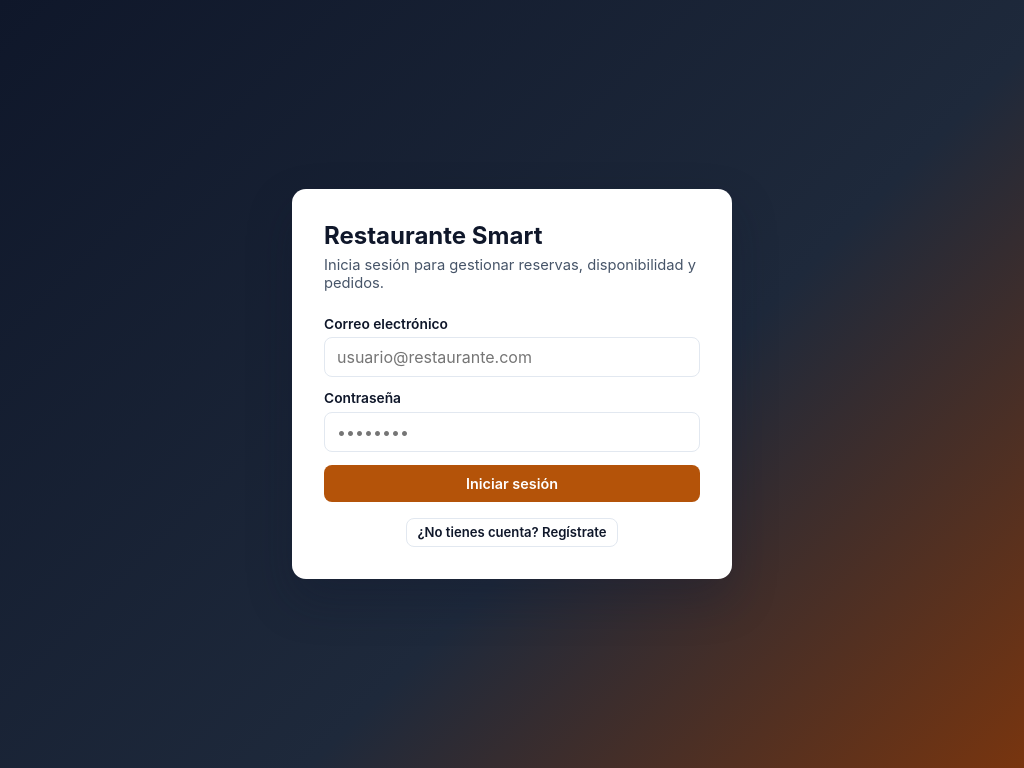
Test: LoginPage › permite cambiar a registro y muestra error si API falla
Click the button "¿No tienes cuenta? Regístrate" at point(512, 532), box 406,518 -> 618,547
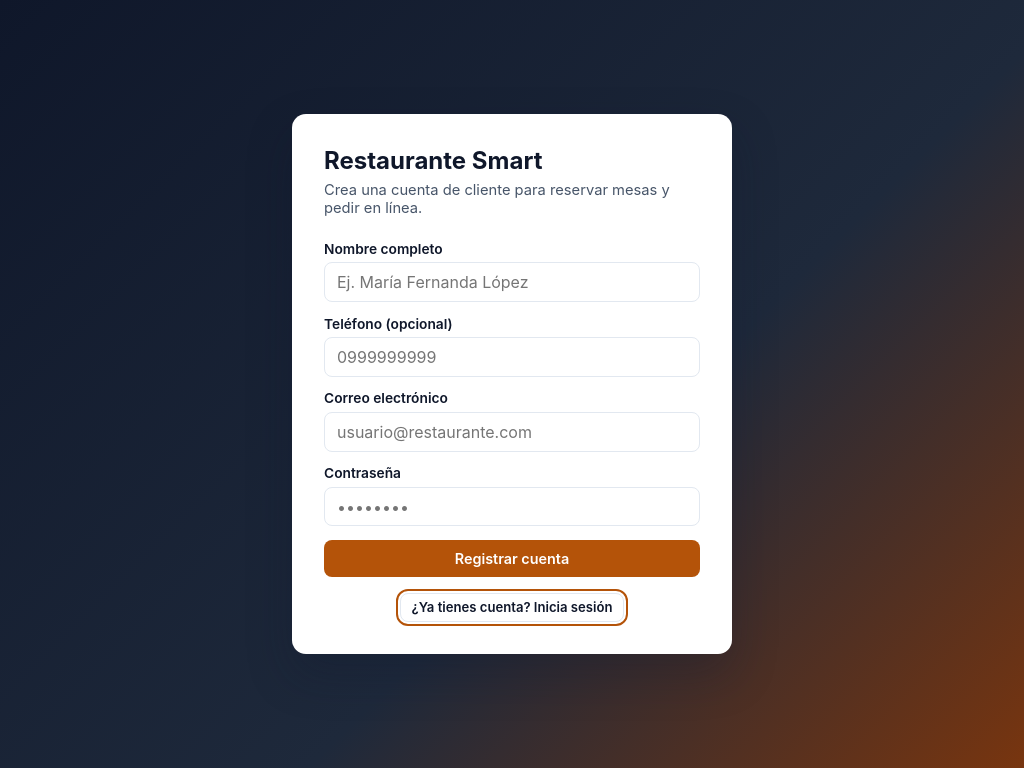
Type "Carlos Pérez" into the field labelled "Nombre completo" at point(512, 282), box 324,262 -> 700,302
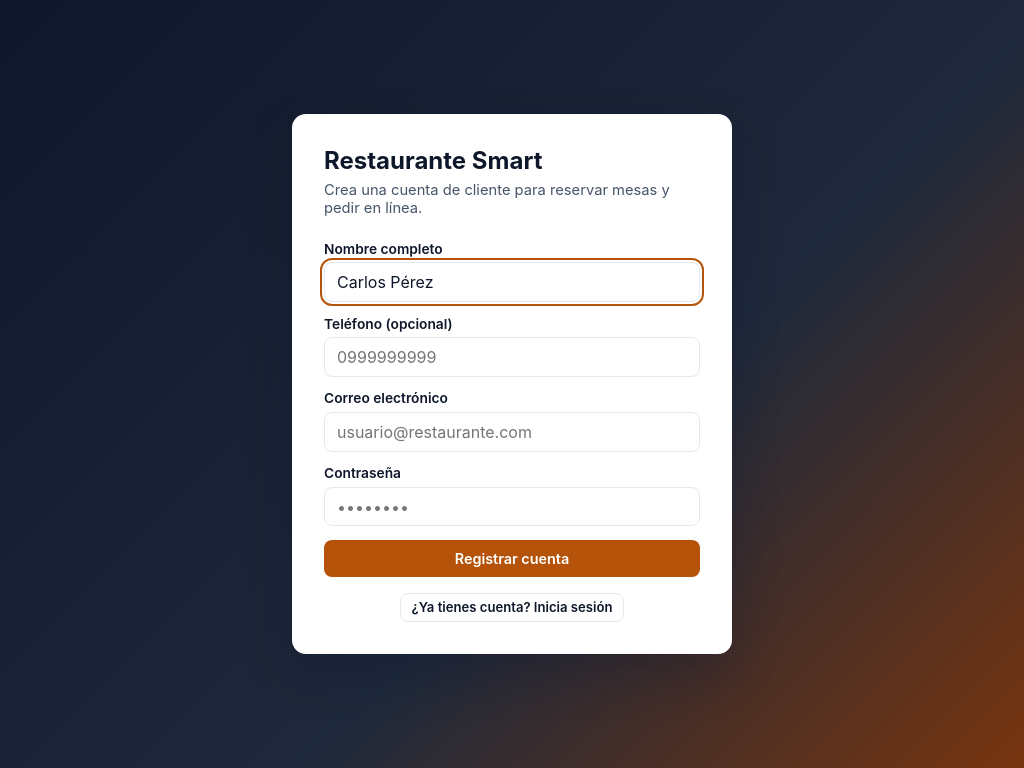
Type "carlos@example.com" into the field labelled "Correo electrónico" at point(512, 432), box 324,412 -> 700,452
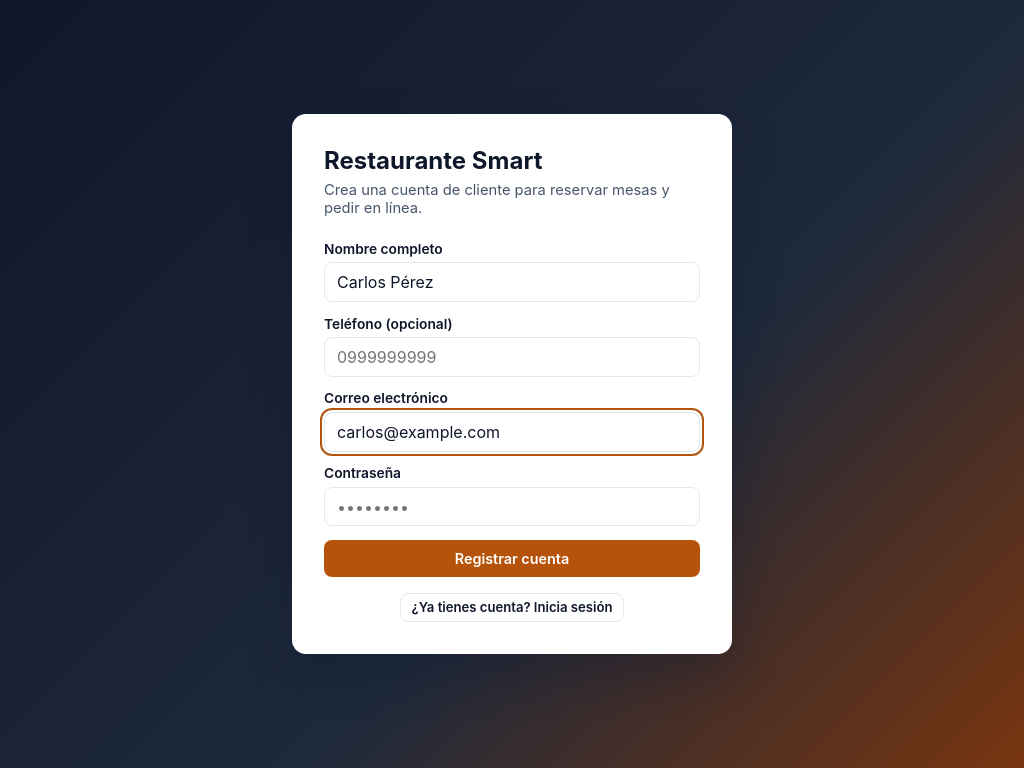
Type "Password123!" into the password field labelled "Contraseña" at point(512, 507), box 324,487 -> 700,526
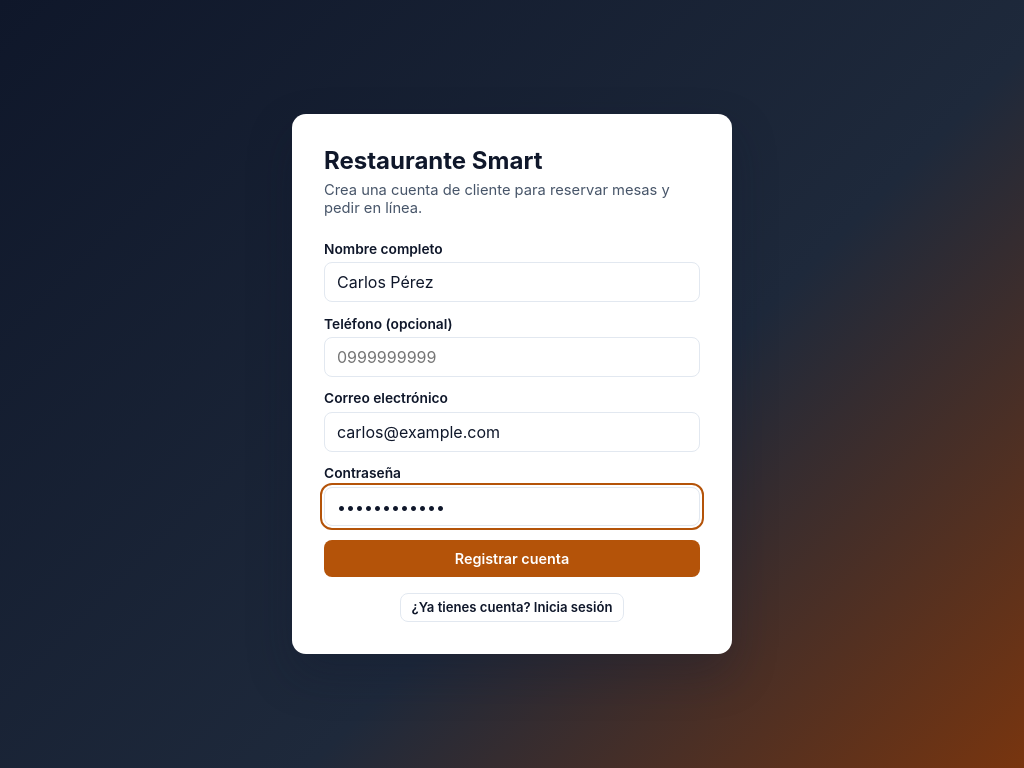
Click the button "Registrar cuenta" at point(512, 558), box 324,540 -> 700,577
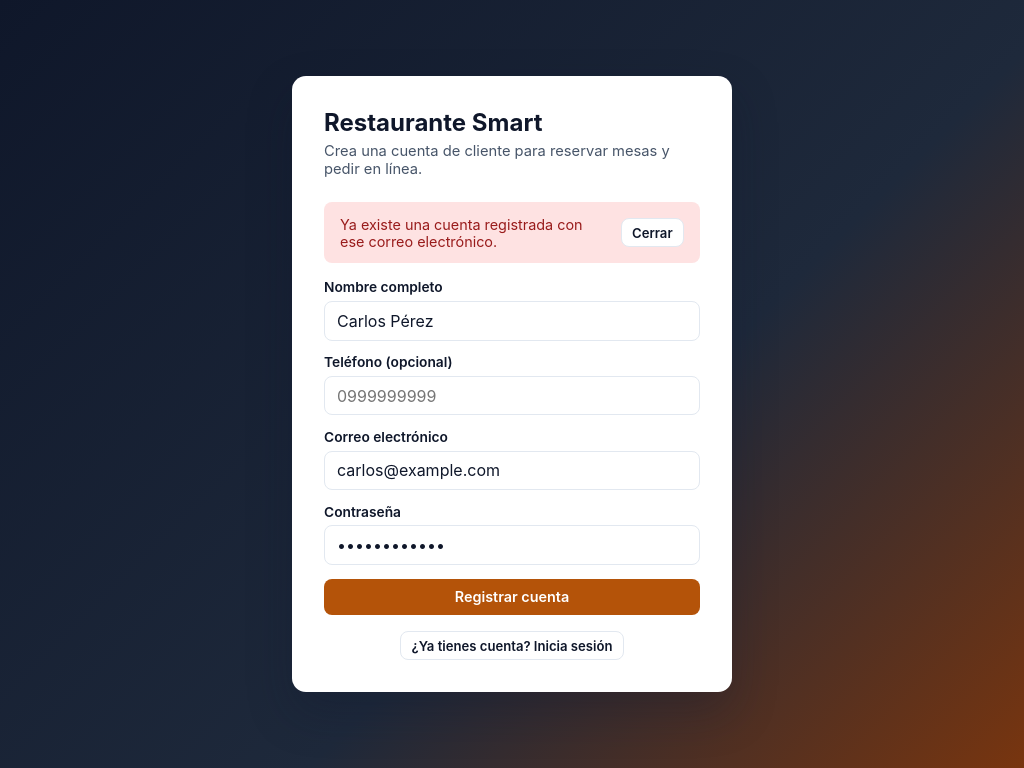
expect the message shows "Ya existe una cuenta registrada con ese correo electrónico.": met, box 340,216 -> 582,250
